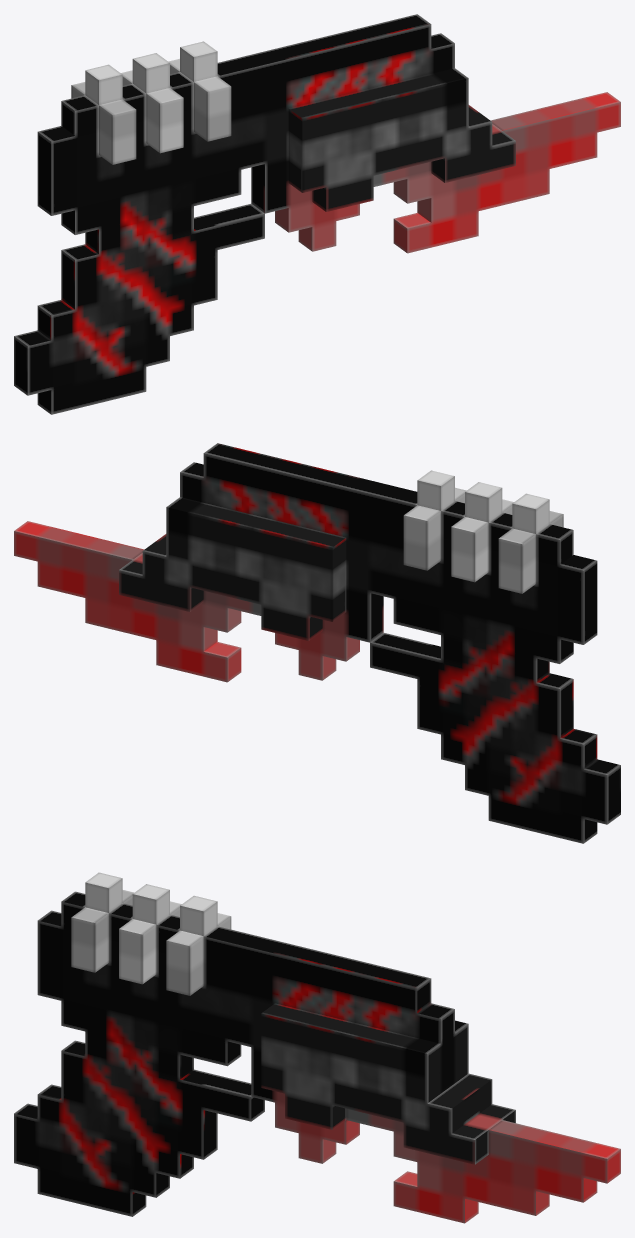
The model's file is RD_GLOCK_BONES.glb.
3 renders of one model, top to bottom at view 1: azimuth 30°, elevation 25°; view 2: azimuth 150°, elevation 25°; view 3: azimuth 330°, elevation 25°, orthographic.
Parts seen in each view (by area): view 1: RD_GLOCK_BONES; view 2: RD_GLOCK_BONES; view 3: RD_GLOCK_BONES.
Part boxes in pixels (x1,y1,x2,y2): RD_GLOCK_BONES: (14,14,620,414); RD_GLOCK_BONES: (14,443,620,843); RD_GLOCK_BONES: (14,872,620,1223).
Size of the model in its own units: 0.6975 by 0.3628 by 0.0838.
1 material, 1 textured.
